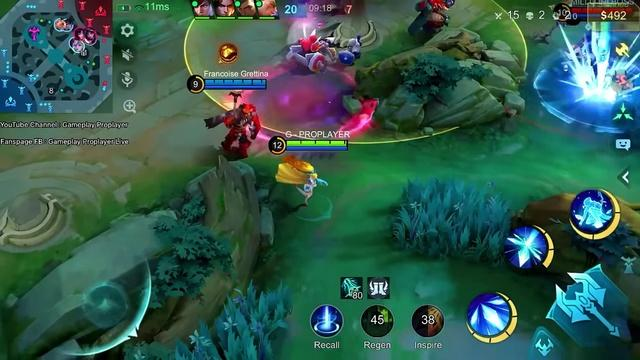Adc_Aliado: (70, 41, 87, 53)
Arbusto: (387, 181, 510, 265), (180, 280, 295, 358)
Bane: (414, 0, 452, 28)
Esbirro_Aliado: (285, 36, 328, 73)
Esbirro_Enemigo: (346, 36, 361, 62)
Exp_Aliado: (53, 16, 65, 31)
Exp_Enemigo: (86, 35, 97, 45)
HP_Aliado: (203, 80, 266, 84)
HP_Enemigo: (571, 7, 632, 13)
HP_Heroe_Principal: (287, 140, 349, 145)
Lord_Mapa: (26, 25, 41, 42)
Mana: (286, 145, 348, 151), (205, 86, 267, 90)
Mid_Aliado: (64, 18, 75, 33)
Mid_Enemigo: (75, 27, 85, 38)
Minimapa: (0, 0, 113, 114)
Miya: (275, 155, 327, 204)
Roamer_Aliado: (69, 36, 79, 47)
Roamer_Enemigo: (85, 28, 97, 40)
Skill1: (467, 294, 516, 343)
Skill2: (507, 227, 553, 268)
Skill3: (570, 189, 620, 240)
Tigreal: (205, 92, 260, 155)
